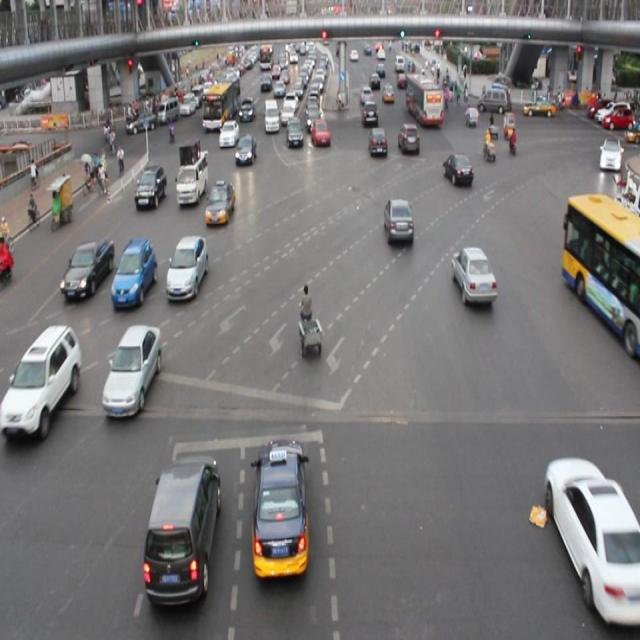car: (544, 458, 640, 612), (250, 439, 310, 579), (9, 324, 78, 438), (104, 323, 161, 415), (62, 238, 114, 300), (111, 237, 156, 306), (165, 235, 207, 300), (450, 247, 495, 304), (382, 196, 414, 246), (134, 165, 168, 211), (205, 182, 235, 226), (442, 152, 472, 187), (396, 124, 420, 157), (234, 133, 256, 168), (368, 125, 388, 159), (311, 118, 330, 150), (218, 119, 238, 148), (286, 117, 304, 147)
truck: (146, 453, 218, 602), (175, 143, 208, 207)
van: (559, 194, 640, 351), (202, 76, 239, 130)
